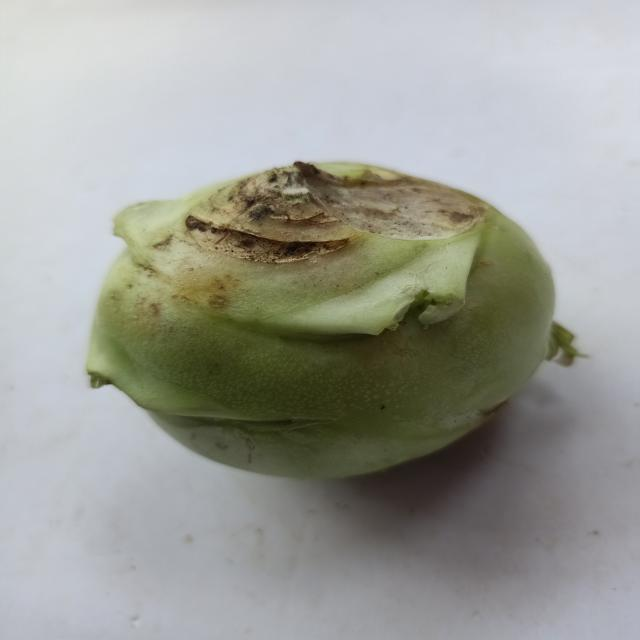Turnip: (69, 138, 612, 504)
